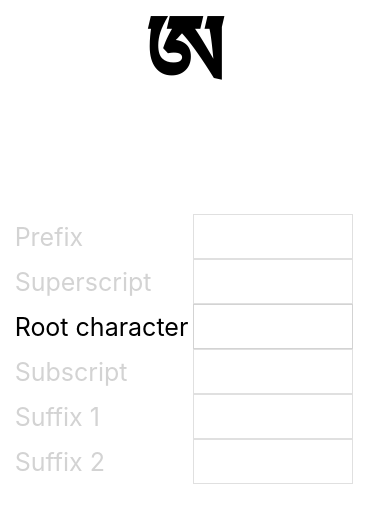
Test case: returns the correct result: with subscript "ra"
Select "ཏ" in the dropdown next to "Root character": (273, 326) top-left (193, 304), bottom-right (353, 349)
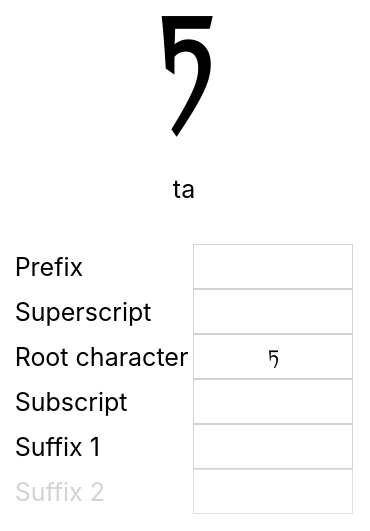
Select "ར" in the dropdown with id "subscript": (273, 402) top-left (193, 379), bottom-right (353, 424)
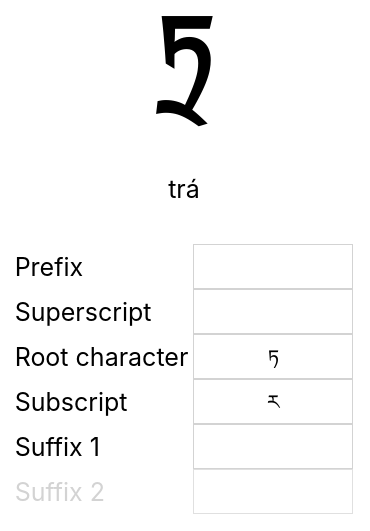
Expected: the text with class "display--transliteration" reads "trá", top-left (168, 174), bottom-right (200, 204)
